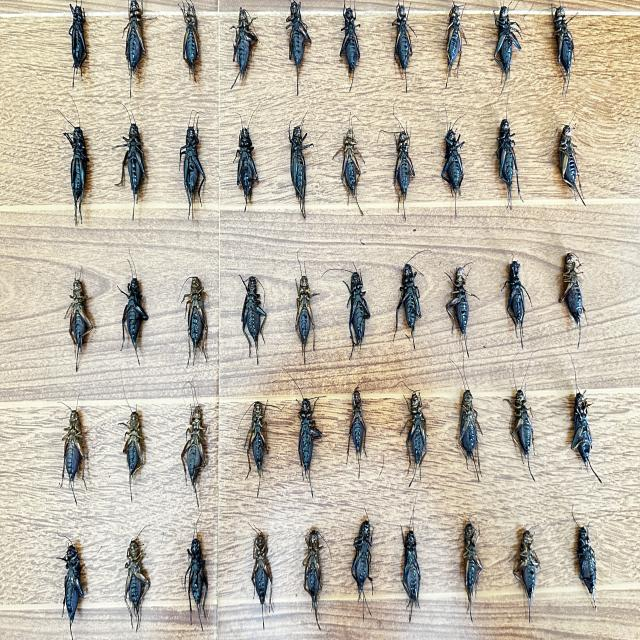egg: (66, 271, 95, 371), (117, 122, 146, 220), (181, 403, 207, 507), (59, 406, 86, 506), (507, 388, 534, 481), (121, 276, 149, 365), (64, 126, 89, 225), (494, 5, 521, 95), (125, 537, 150, 631), (180, 126, 205, 219), (120, 409, 145, 501), (395, 263, 422, 348), (302, 527, 324, 629), (514, 530, 539, 619), (246, 401, 269, 497), (299, 398, 322, 494), (241, 276, 266, 364), (341, 117, 363, 215), (183, 277, 207, 366), (295, 275, 319, 364), (446, 266, 469, 358), (559, 125, 585, 205), (505, 259, 529, 345), (62, 543, 84, 636), (290, 126, 312, 218), (286, 0, 312, 77), (496, 119, 518, 209), (463, 522, 483, 620), (347, 272, 370, 356), (392, 2, 413, 92), (459, 390, 480, 480), (351, 517, 373, 602), (553, 6, 574, 95), (560, 253, 584, 330), (406, 391, 427, 479), (339, 3, 360, 90), (236, 127, 258, 210), (394, 131, 415, 217), (233, 7, 258, 79), (251, 531, 273, 612), (186, 537, 208, 616), (348, 387, 366, 479), (125, 0, 145, 81), (441, 128, 464, 198), (402, 529, 420, 618), (68, 4, 87, 88), (571, 392, 592, 468), (446, 3, 464, 88), (577, 526, 596, 602), (181, 2, 199, 79), (140, 163, 145, 176), (73, 186, 84, 191), (310, 535, 316, 543), (347, 178, 352, 186), (128, 151, 135, 156), (75, 573, 80, 578), (255, 476, 259, 480), (404, 197, 406, 204)
